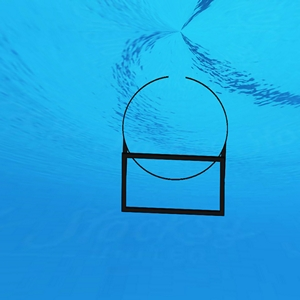circle: (117, 74, 229, 221)
